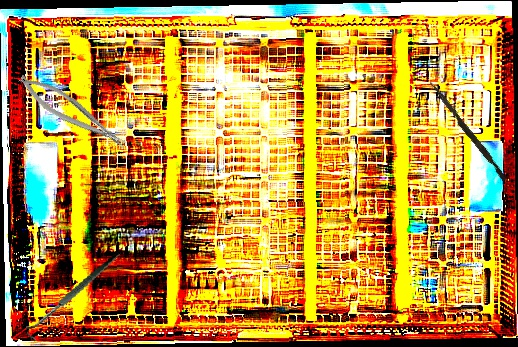Hook Surgical: (13, 250, 135, 344)
Needle Holder: (14, 66, 130, 159)
Pusher: (425, 80, 510, 182)
